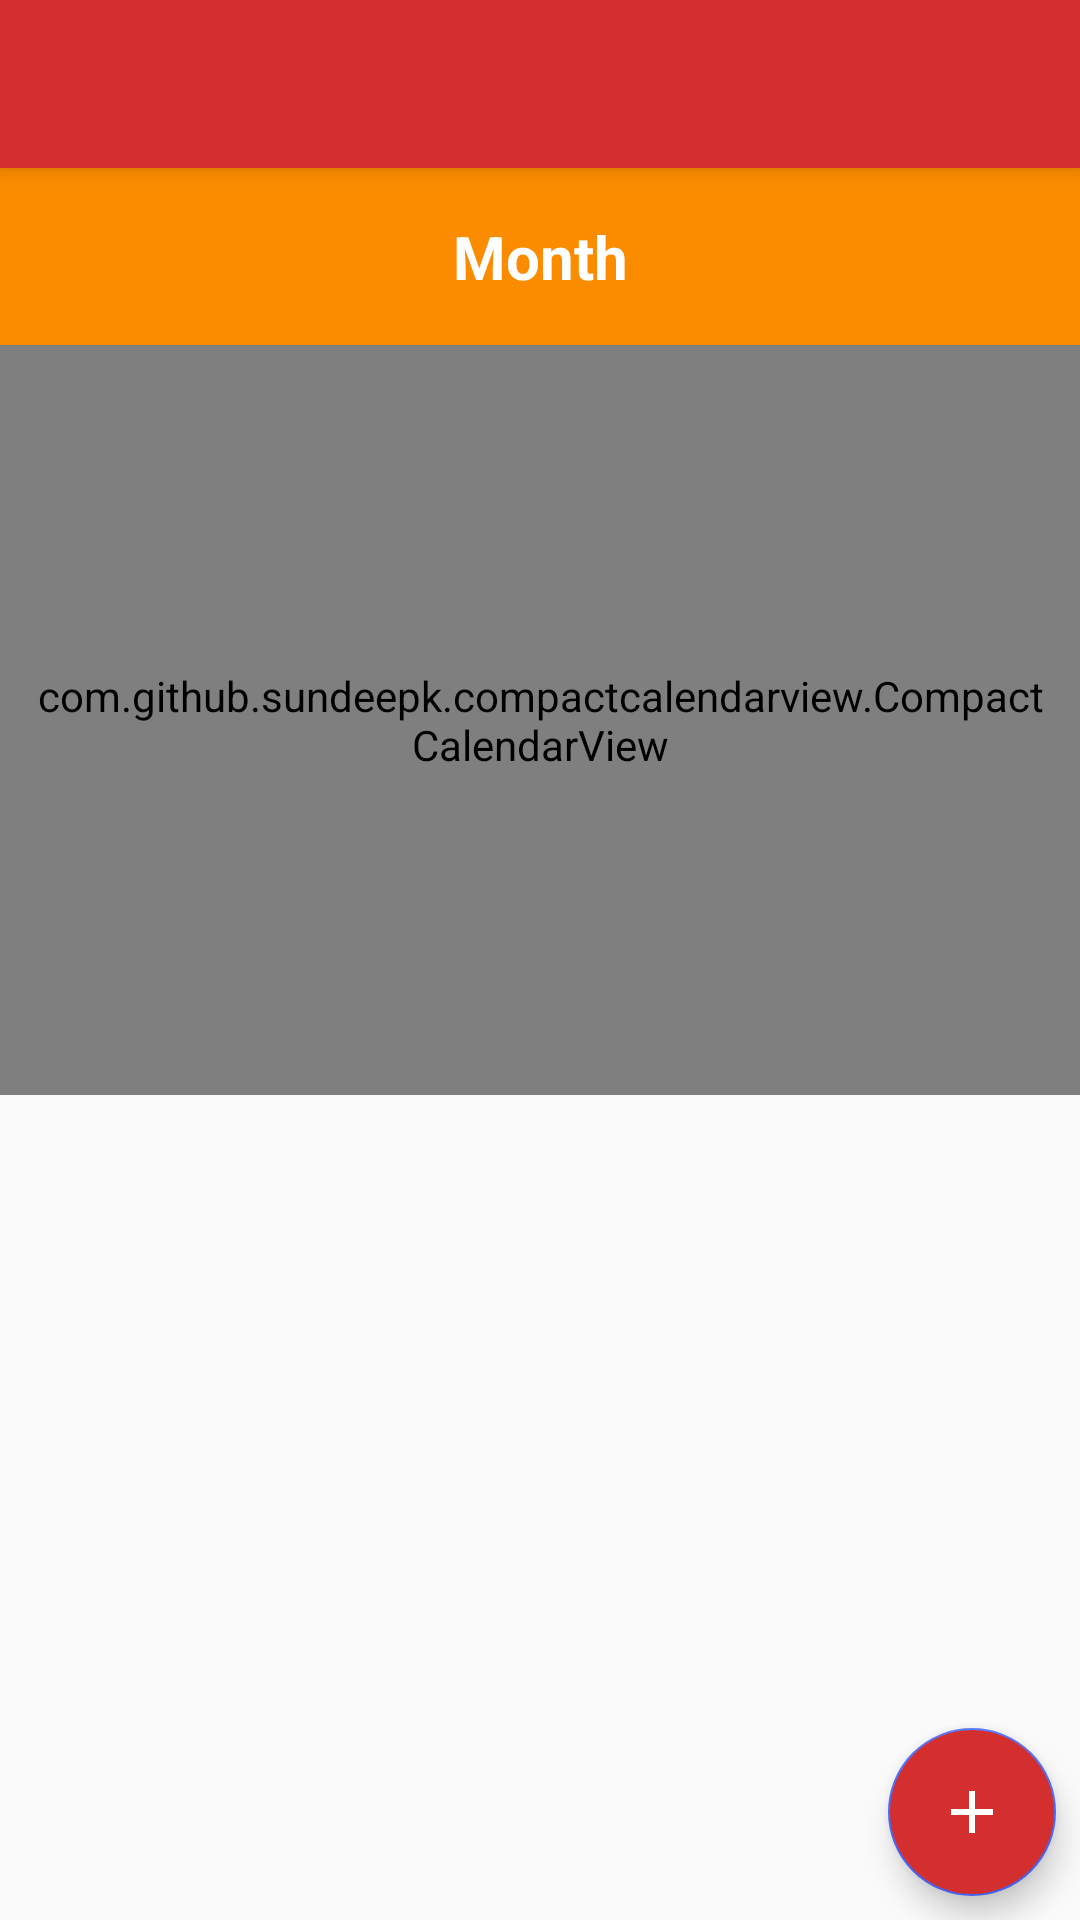

Where icons sit on this 1080w x 1920h app screen, as (x1, y1, x2, y2):
plus: (888, 1728, 1056, 1896)
